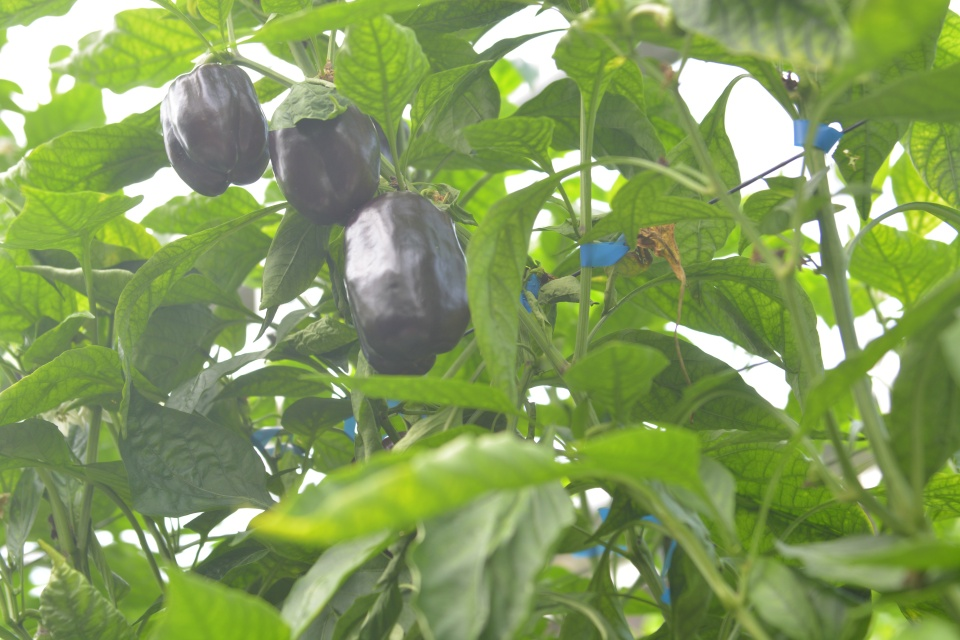flower: (40, 400, 86, 439), (77, 404, 114, 426)
fruit: (340, 188, 472, 378), (265, 80, 384, 230), (156, 61, 270, 199), (348, 428, 416, 560)
